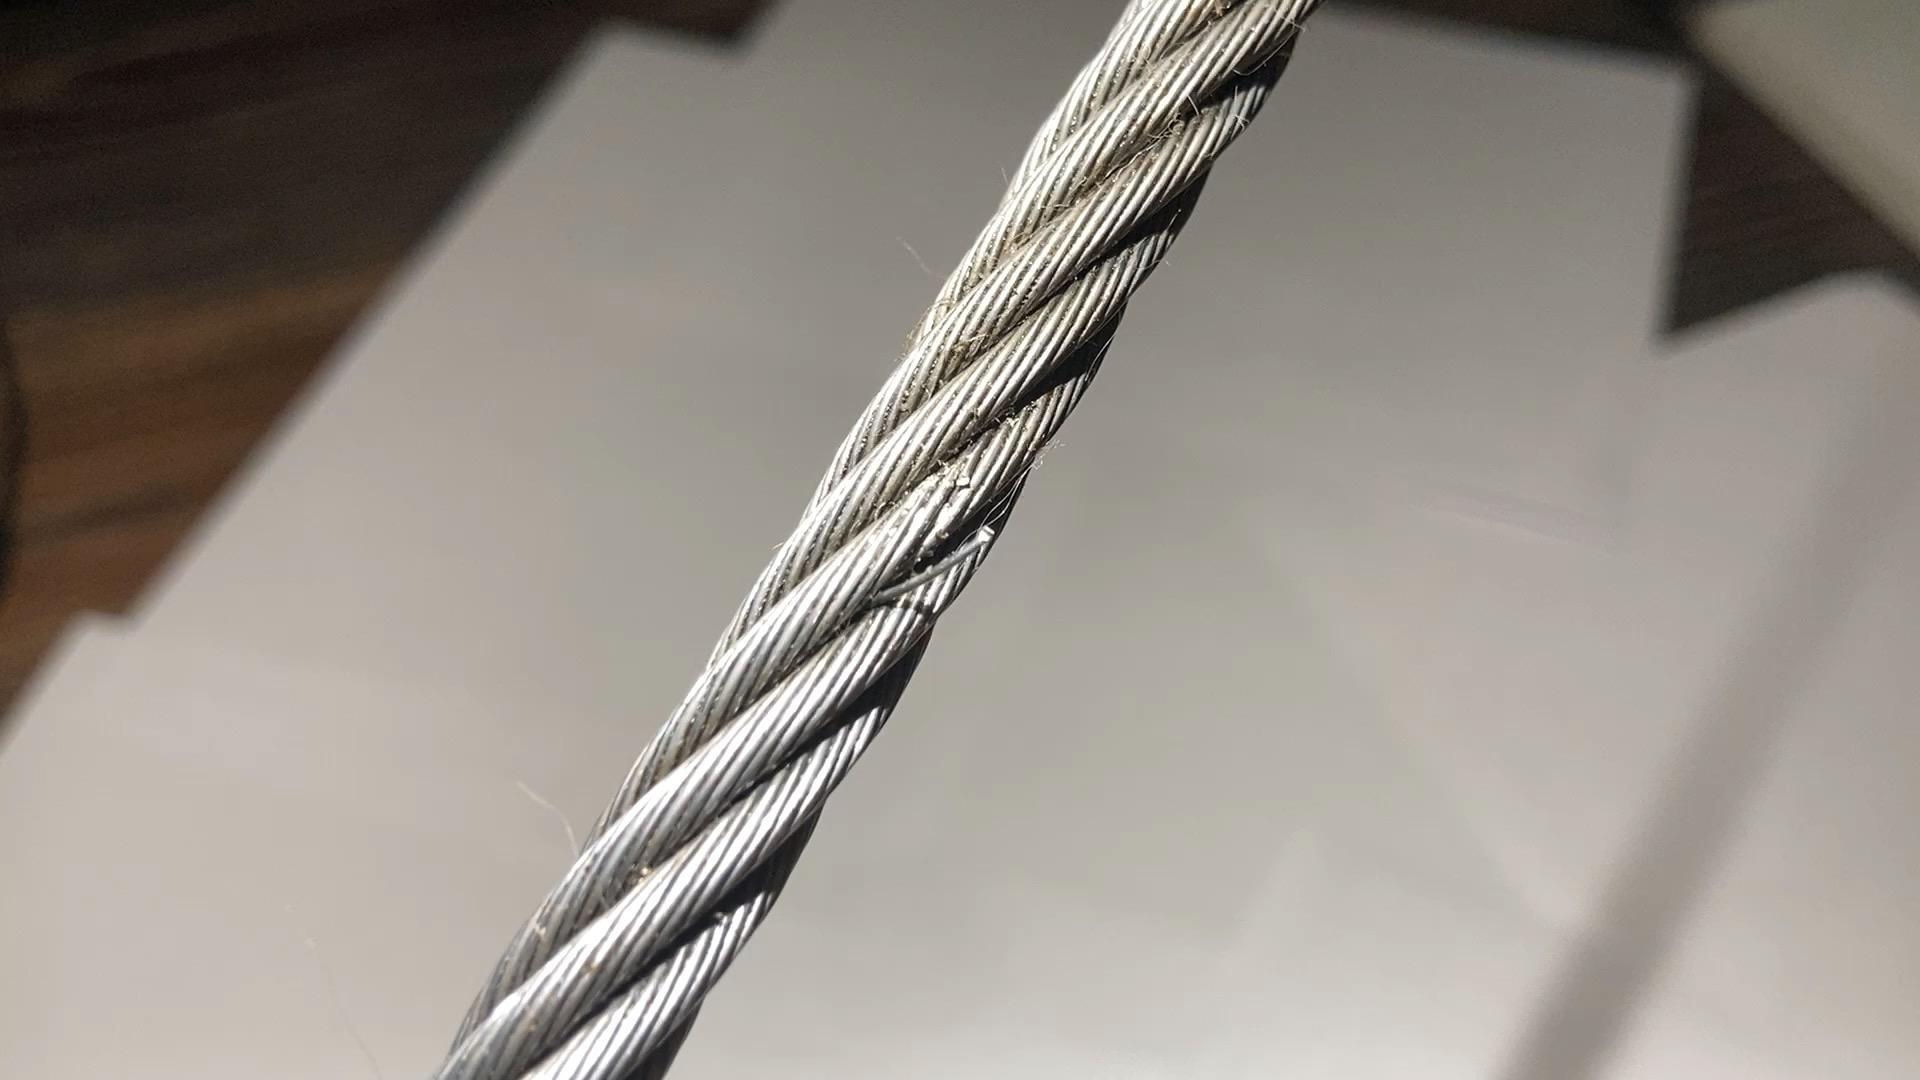break: (881, 502, 997, 593)
